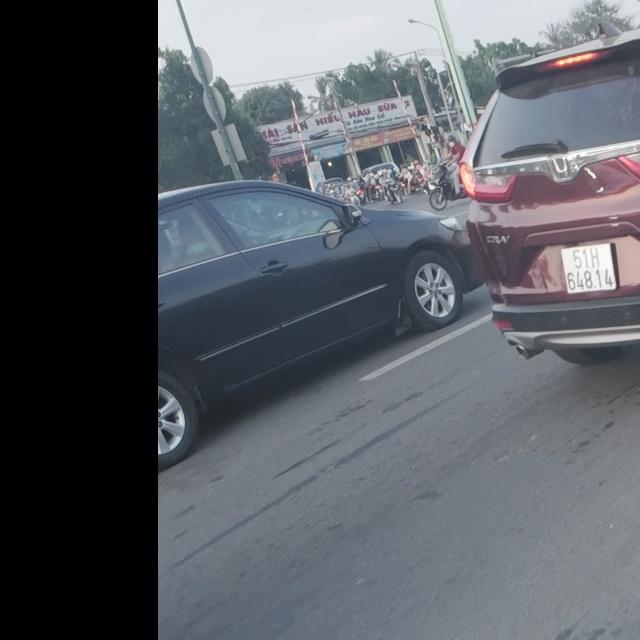license-plate: (561, 242, 616, 292)
